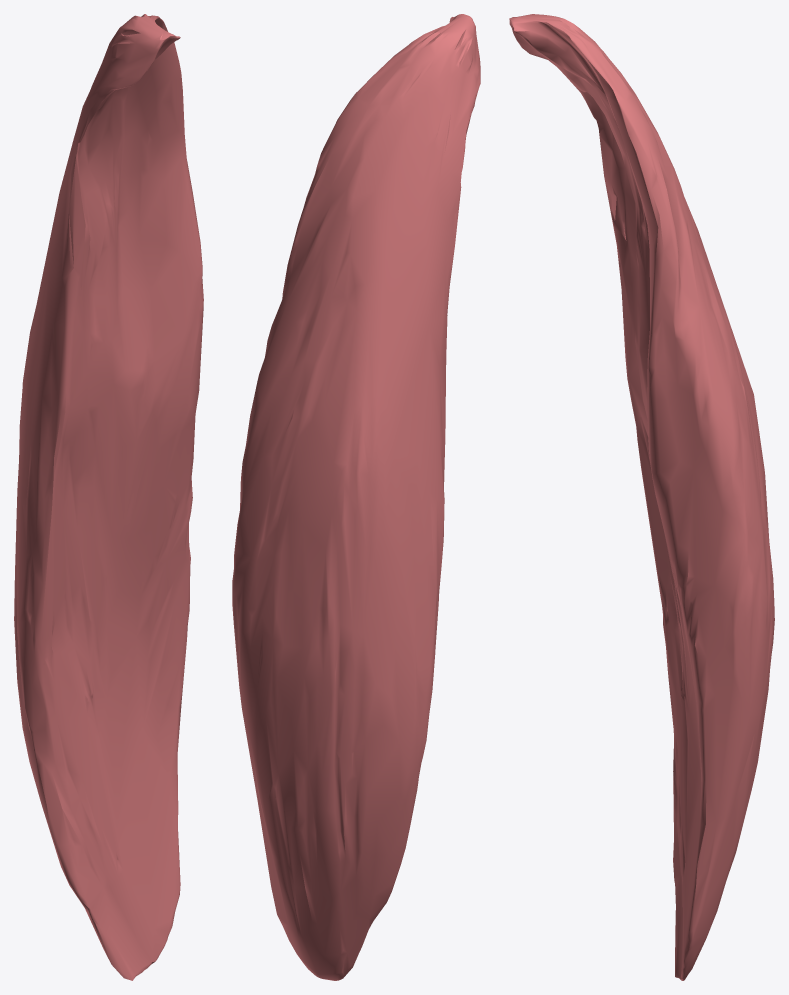
The picture shows the model from 3 angles, left to right: view 1: azimuth 30°, elevation 25°; view 2: azimuth 150°, elevation 25°; view 3: azimuth 270°, elevation 25°; orthographic projection. The views are drawn at different scales.
Visible parts, largest first — view 1: FJ1394; view 2: FJ1394; view 3: FJ1394.
Boxes of the visible parts, <box> form: FJ1394: <box>14,14,203,980</box>; FJ1394: <box>232,14,480,980</box>; FJ1394: <box>509,14,774,980</box>.
Bounding box in the file's own units: 0.0555 × 0.2889 × 0.0745.
